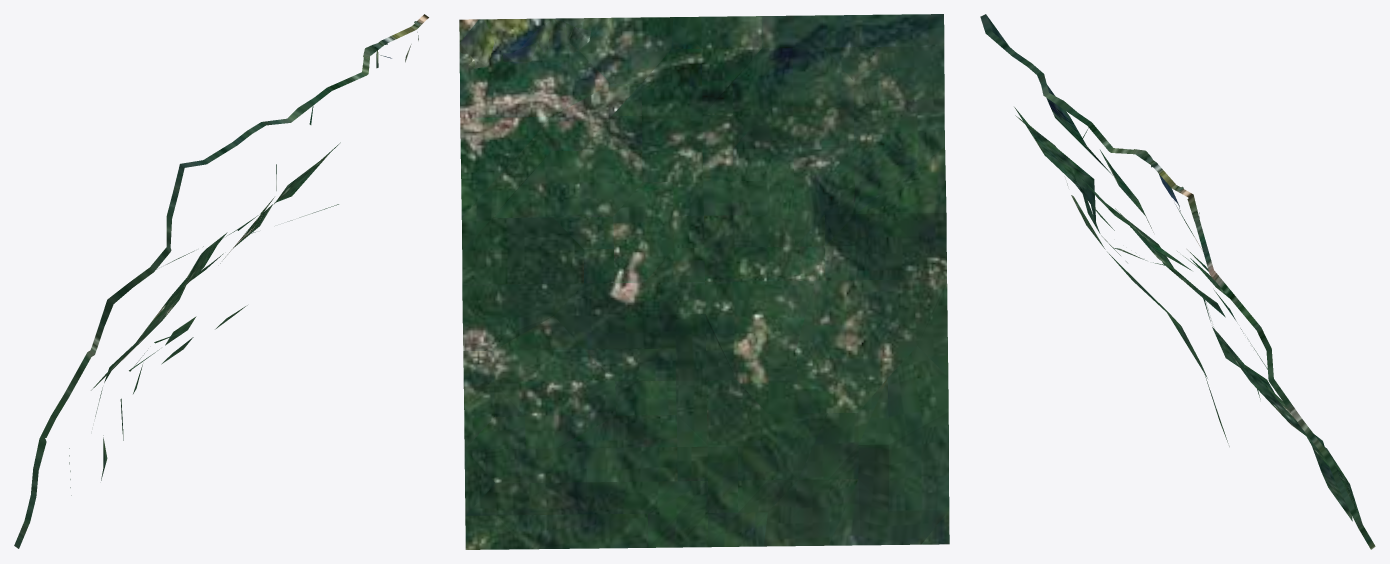
The picture shows the model from 3 angles, left to right: view 1: azimuth 30°, elevation 25°; view 2: azimuth 150°, elevation 25°; view 3: azimuth 270°, elevation 25°; orthographic projection. The views are drawn at different scales.
Bounding box in the file's own units: 4950 × 4597 × 3938.
1 material, 1 textured.
